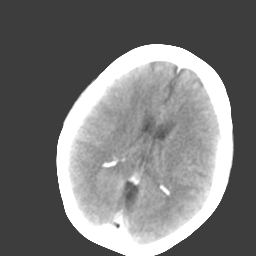ischemic: (70, 120, 126, 199)
